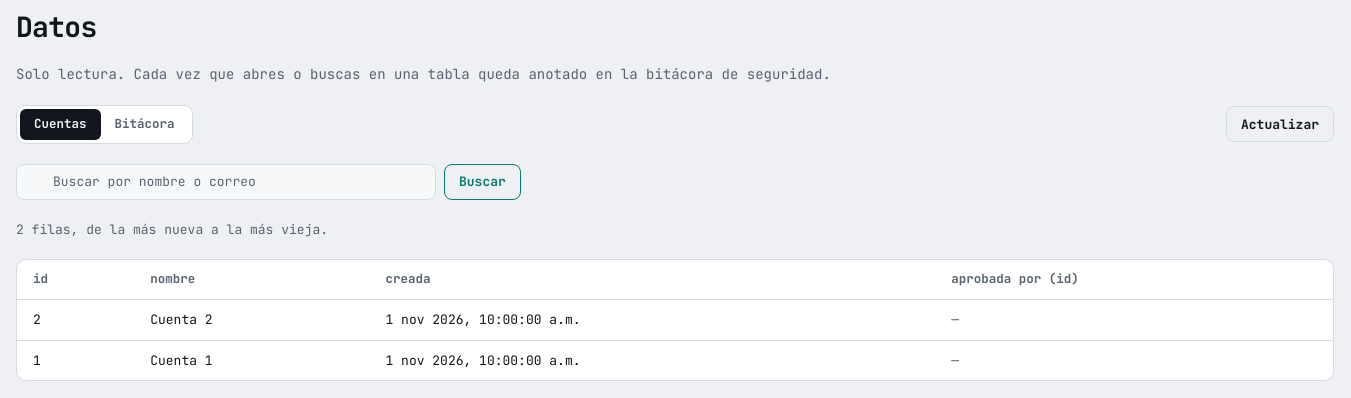
Scenario: PaginaDatos › al elegir otra tabla la pide y limpia la búsqueda
The width and height of the screenshot is (1351, 398).
Expected: the text "Cuenta 2" is shown, left=134, top=300, right=370, bottom=340
Type "ana" into the search field named "Buscar en la tabla".
click(226, 182); type("ana")  # box left=16, top=164, right=436, bottom=200
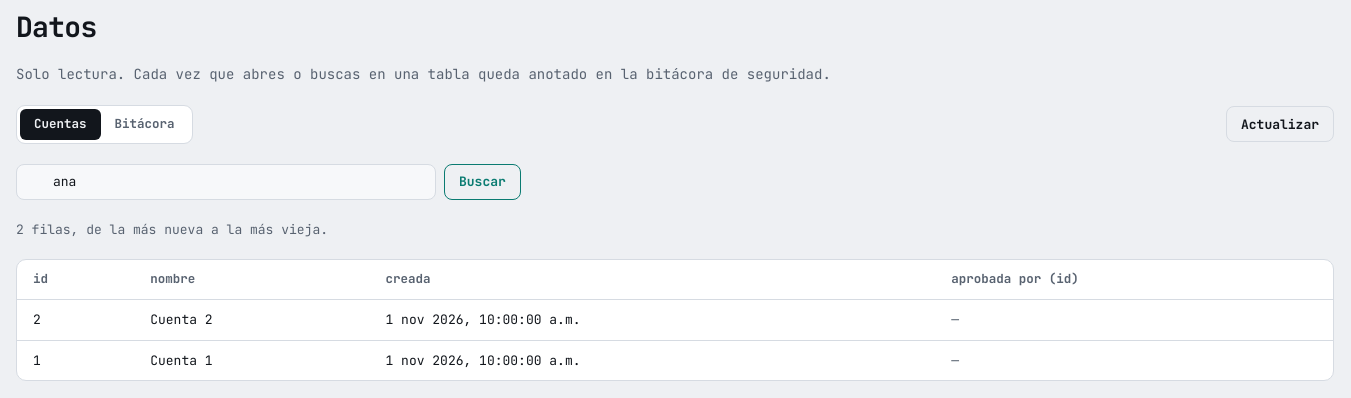
Click the button "Buscar".
click(482, 182)  # box left=444, top=164, right=521, bottom=200
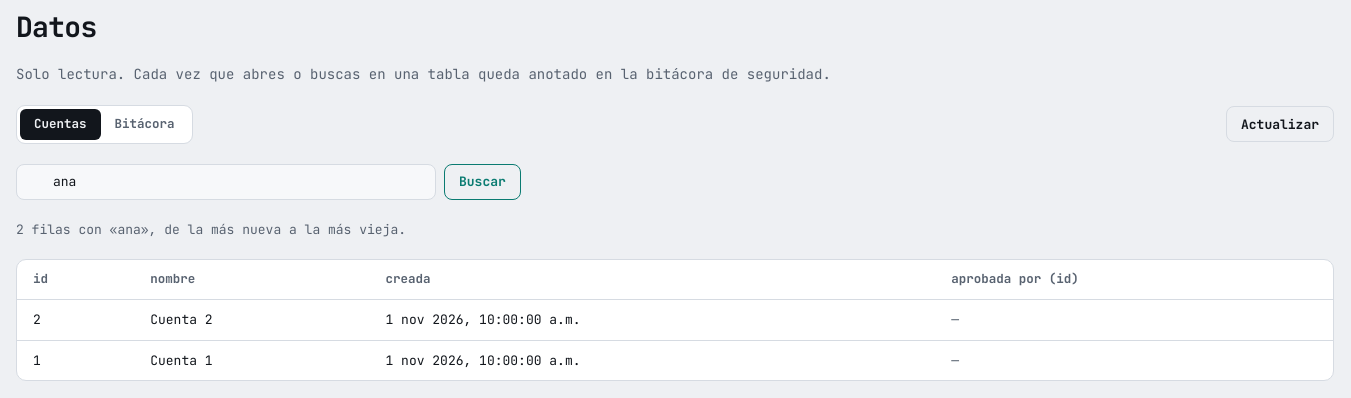
Click the button "Bitácora".
click(144, 124)  # box left=100, top=109, right=188, bottom=140
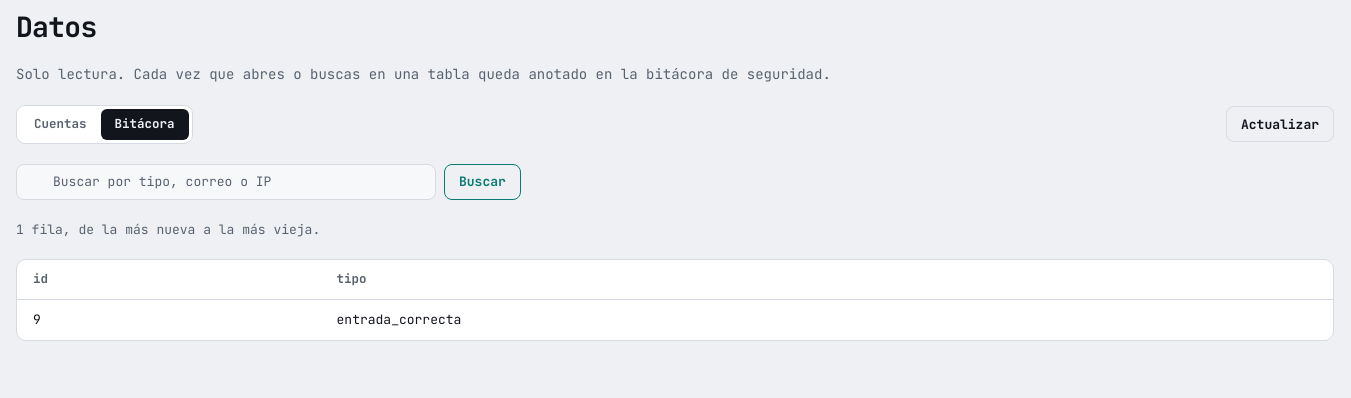
Result: the text "entrada_correcta" is shown at left=320, top=300, right=1333, bottom=340
Result: the search field named "Buscar en la tabla" is empty at left=16, top=164, right=436, bottom=200
